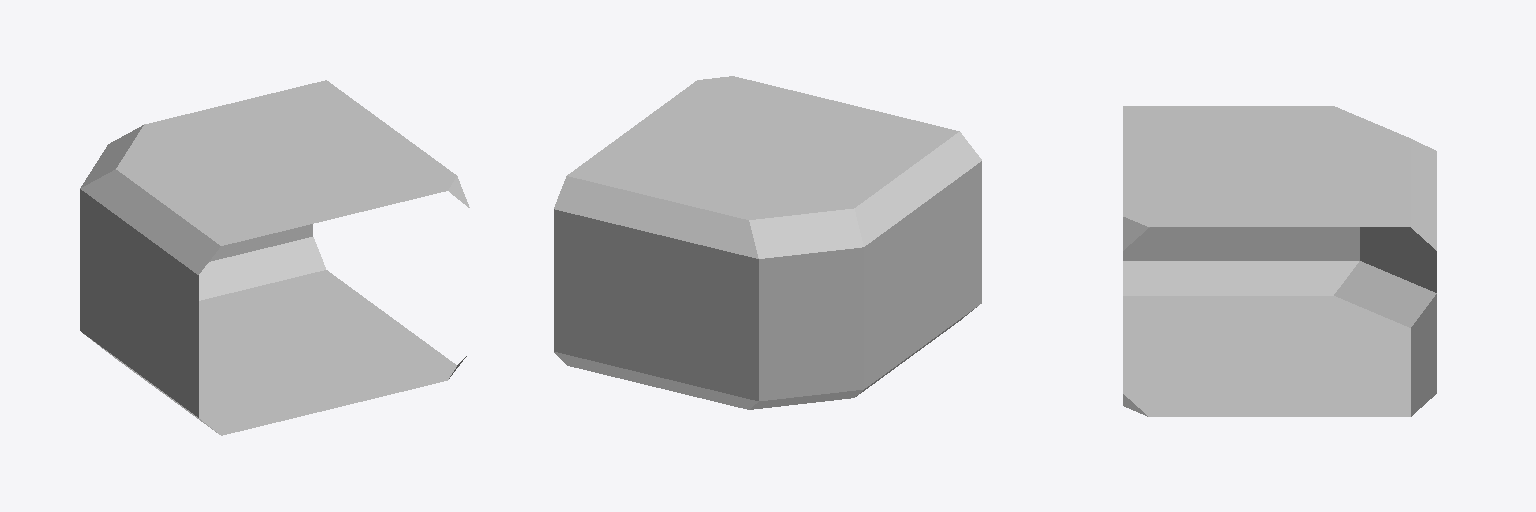
File: Corridor_Corner.obj
3 renders of one model, left to right at view 1: azimuth 30°, elevation 25°; view 2: azimuth 150°, elevation 25°; view 3: azimuth 270°, elevation 25°, orthographic.
Parts seen in each view (by area): view 1: Corridor_Corner_Cube.005; view 2: Corridor_Corner_Cube.005; view 3: Corridor_Corner_Cube.005.
Boxes of the visible parts, x1,y1,x2,y2 form: Corridor_Corner_Cube.005: [80, 80, 469, 435]; Corridor_Corner_Cube.005: [554, 76, 981, 409]; Corridor_Corner_Cube.005: [1123, 106, 1436, 416].
Size of the model in its own units: 6 by 4 by 6.